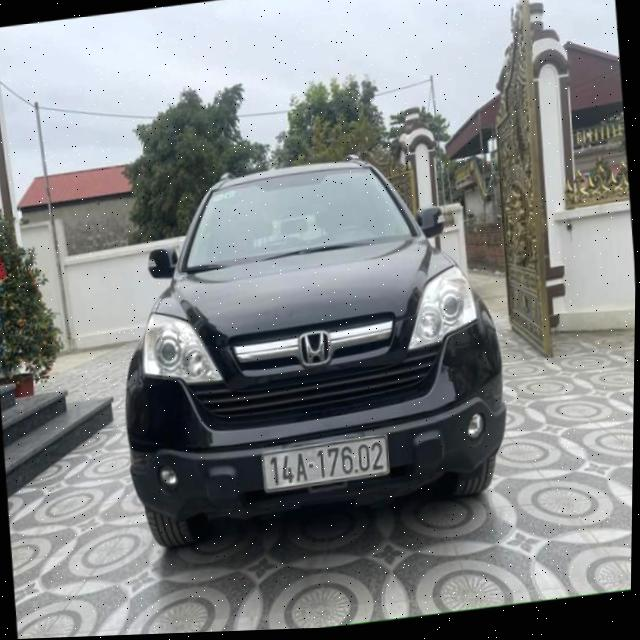car: (112, 142, 510, 569)
plate: (254, 431, 397, 497)
